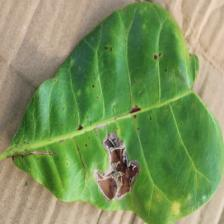leaf miner: (0, 0, 224, 223), (92, 130, 140, 202)
